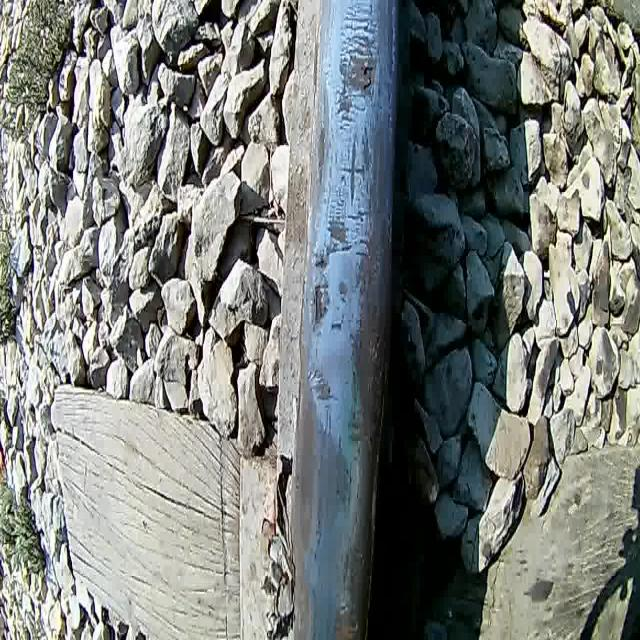Cracks: (306, 360, 340, 409), (358, 58, 376, 99)
Spallings: (313, 272, 334, 326)
Squats: (350, 224, 390, 638), (326, 0, 383, 129), (312, 204, 354, 274), (306, 278, 355, 338), (341, 129, 375, 206)
